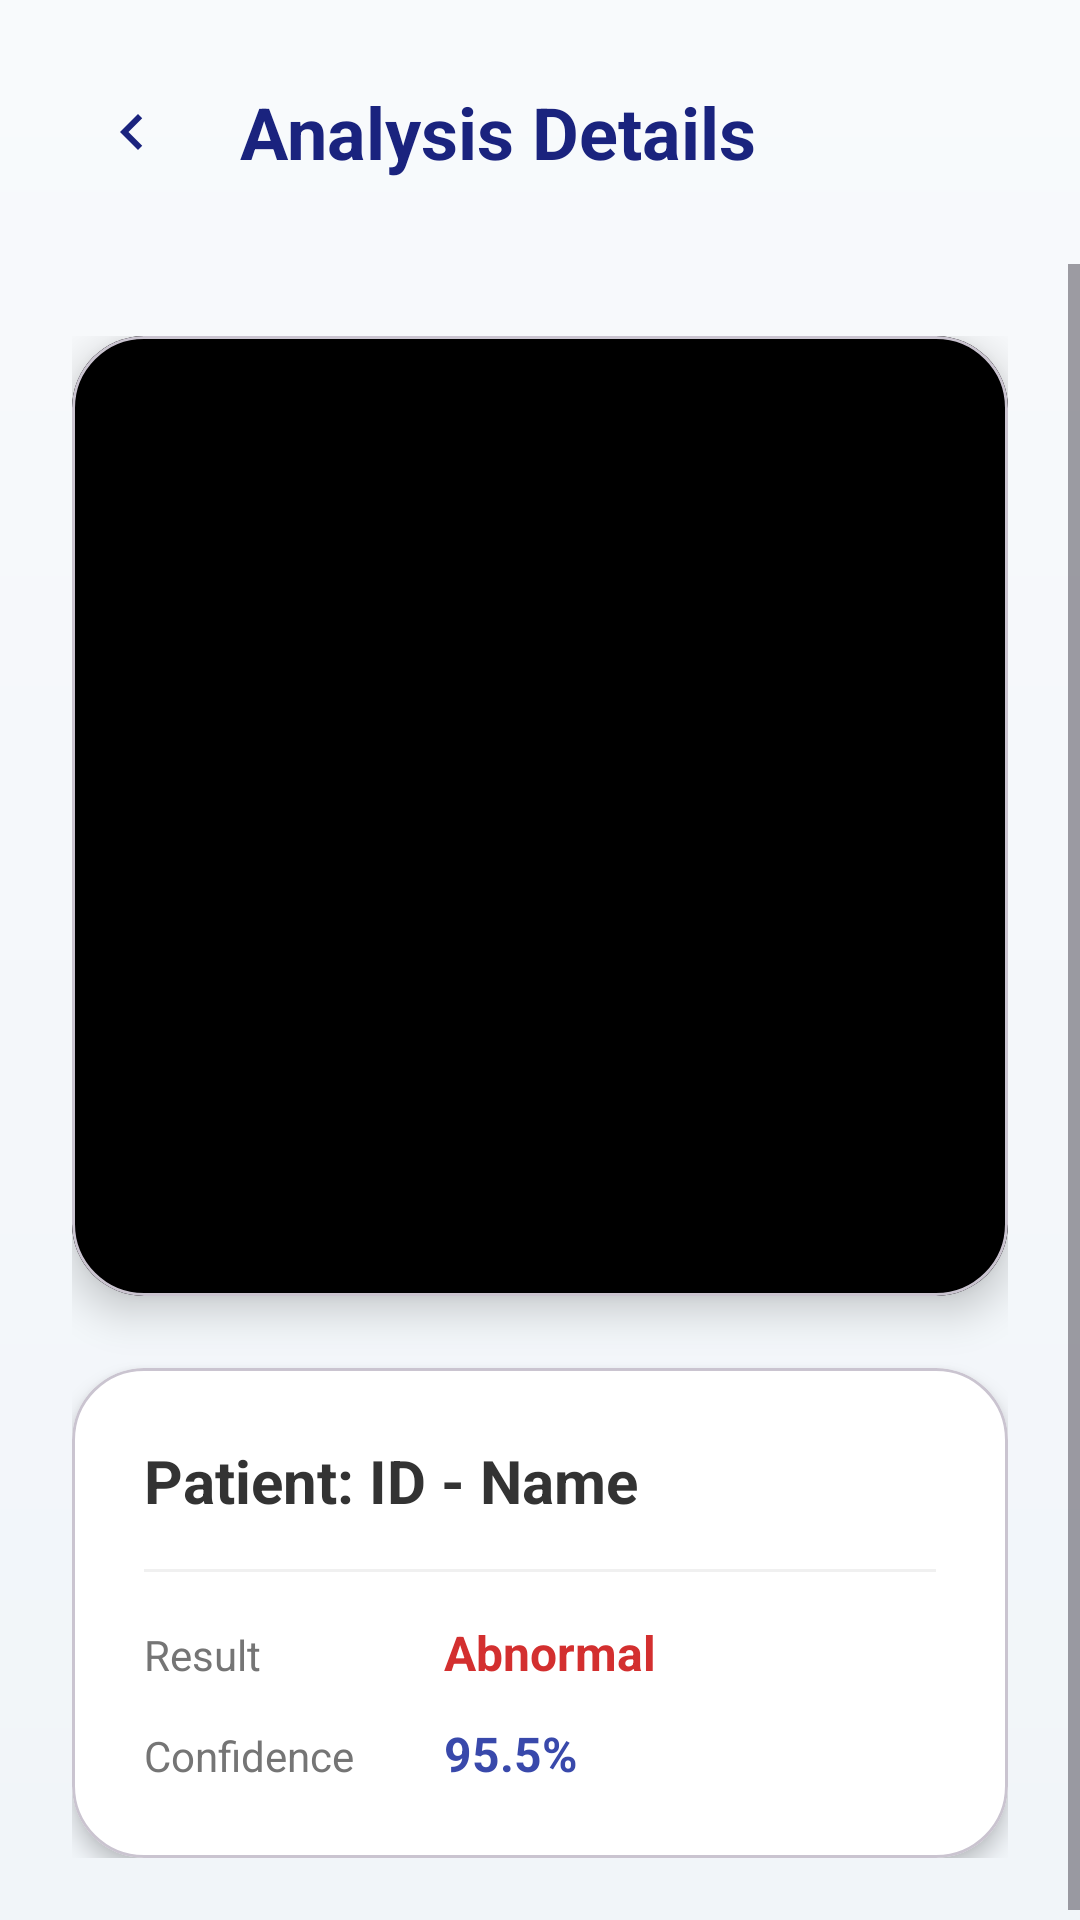

Screen size 1080px x 1920px. Icon name, then its box in pixels as [left=x1, top=y1, right=x2, bottom=y2]:
chevron left: [left=120, top=114, right=142, bottom=150]
